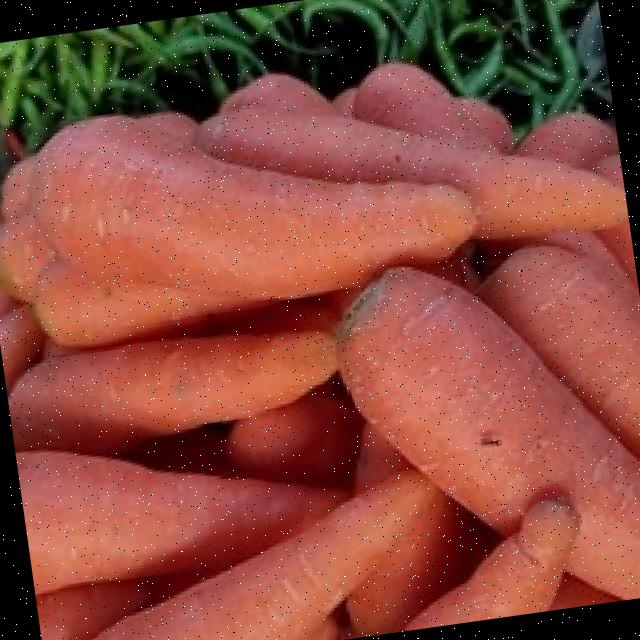carrot: (0, 64, 640, 640)
